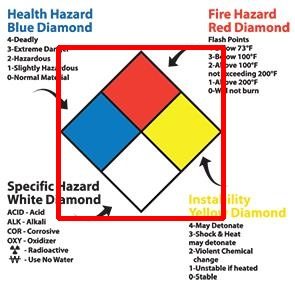nfpa: (58, 47, 223, 218)
